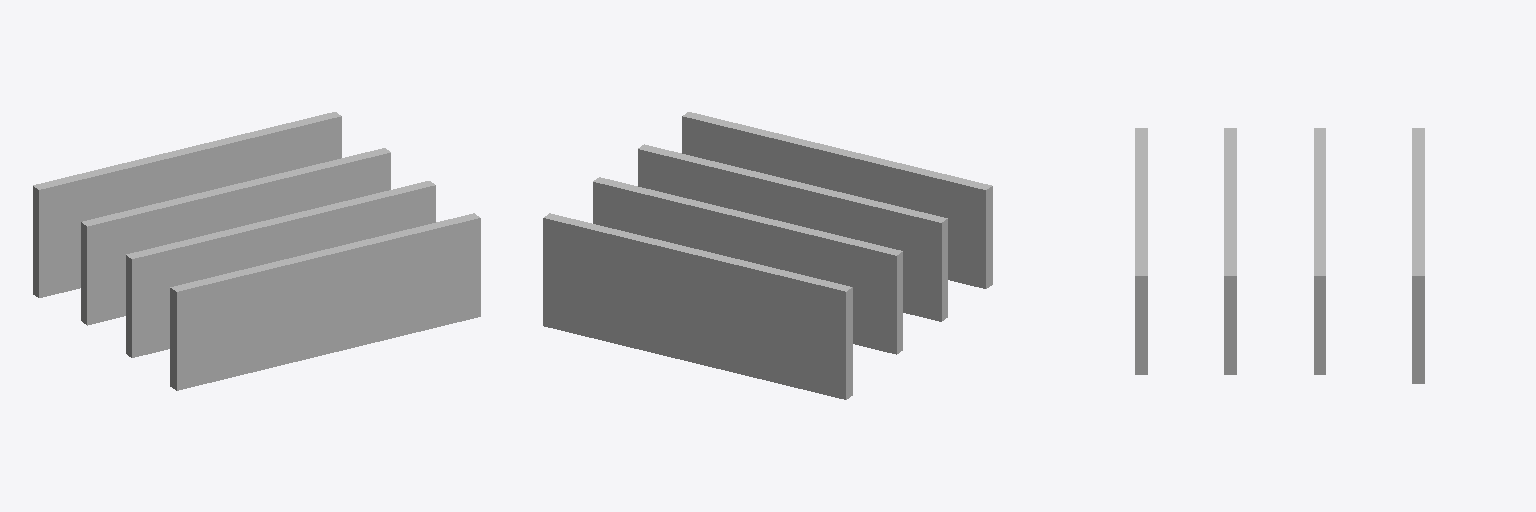
The model's file is housesp_122.obj.
The picture shows the model from 3 angles: view 1: azimuth 30°, elevation 25°; view 2: azimuth 150°, elevation 25°; view 3: azimuth 270°, elevation 25°; orthographic projection.
Size of the model in its own units: 54 by 18.4 by 44.69.